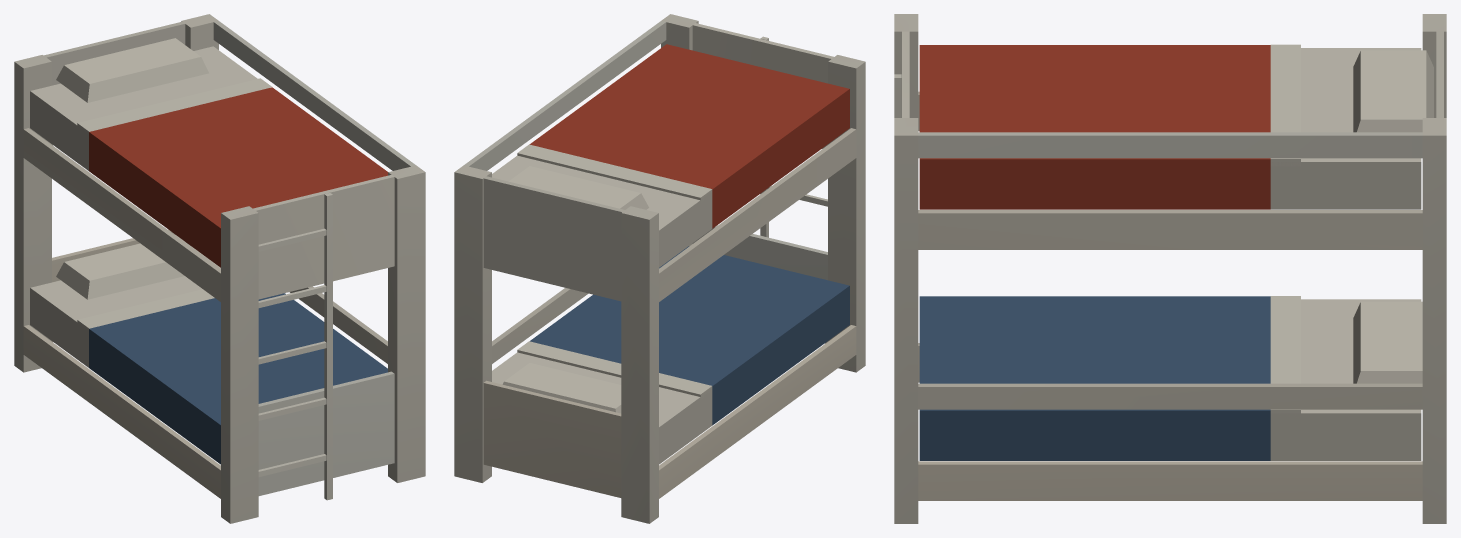
Rendered from bed.bunk.painted.glb.
3 views of the same model, side by side, from view 1: azimuth 30°, elevation 25°; view 2: azimuth 150°, elevation 25°; view 3: azimuth 270°, elevation 25° (orthographic). The views are drawn at different scales.
Parts seen in each view (by area): view 1: bed_bunk_painted; view 2: bed_bunk_painted; view 3: bed_bunk_painted.
Part boxes in pixels (bbox=[...]): bed_bunk_painted: bbox=[14, 14, 425, 523]; bed_bunk_painted: bbox=[454, 14, 865, 523]; bed_bunk_painted: bbox=[894, 14, 1446, 523].
Size of what is drawn, in the model's own units: 1.14 by 1.7 by 2.19.
